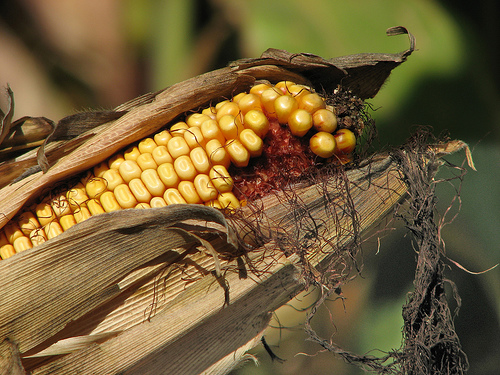corn: (0, 24, 499, 373)
